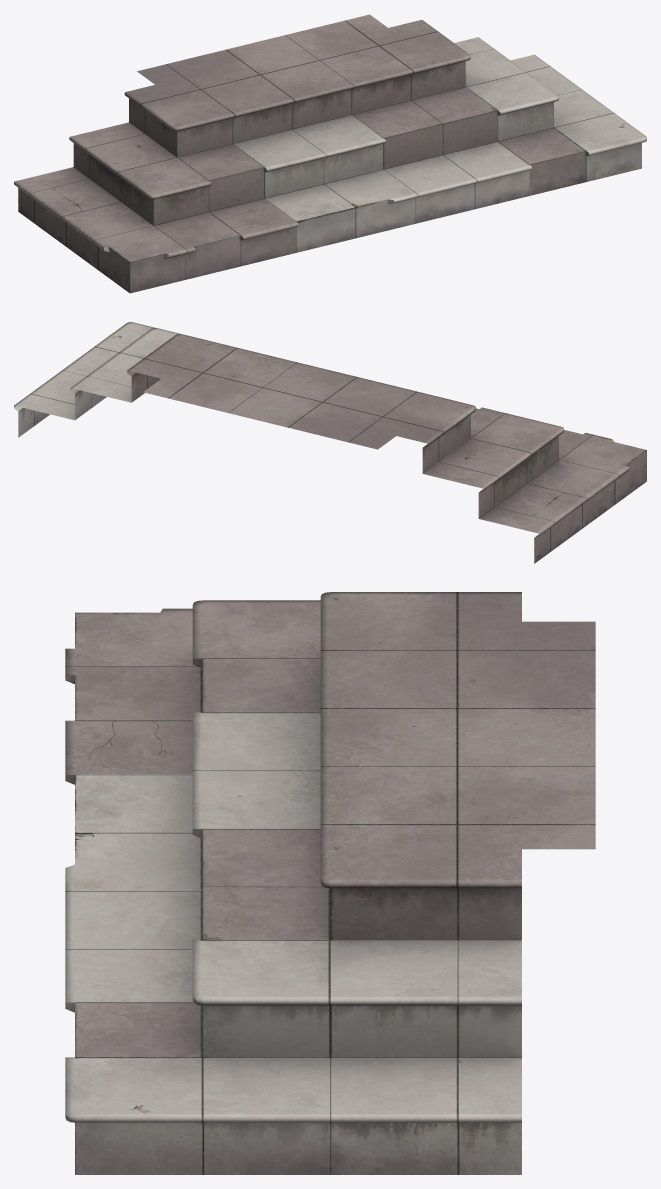
The model's file is Srairs.fbx.
The picture shows the model from 3 angles, top to bottom: view 1: azimuth 30°, elevation 25°; view 2: azimuth 150°, elevation 25°; view 3: azimuth 270°, elevation 25°; orthographic projection. The views are drawn at different scales.
Visible parts, largest first — view 1: Low-1; view 2: Low-1; view 3: Low-1.
Boxes of the visible parts, x1=… form: Low-1: x1=14, y1=14, x2=646, y2=293; Low-1: x1=14, y1=322, x2=646, y2=563; Low-1: x1=65, y1=592, x2=595, y2=1174.
Bounding box in the file's own units: 262 × 45 × 116.
1 material, 1 textured.
